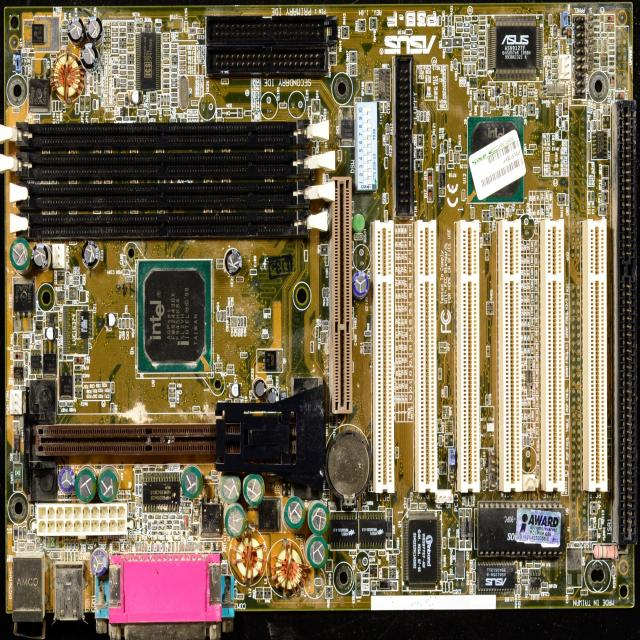Capacitor Jumper: (170, 18, 182, 32), (548, 14, 553, 26), (216, 258, 225, 264), (324, 255, 328, 268), (566, 588, 574, 594), (472, 63, 476, 75), (468, 64, 472, 75), (380, 102, 384, 113), (184, 21, 188, 32), (227, 364, 234, 370), (420, 503, 427, 509), (179, 50, 186, 56), (237, 595, 244, 601), (179, 60, 186, 66), (137, 104, 144, 110), (111, 21, 118, 27), (119, 22, 126, 28), (119, 27, 126, 33), (111, 32, 118, 38), (548, 38, 552, 48), (111, 43, 119, 48), (565, 195, 569, 205), (112, 36, 118, 42), (170, 392, 176, 398), (128, 503, 132, 512), (160, 96, 164, 105), (112, 27, 118, 33), (474, 24, 477, 36), (120, 32, 126, 38), (163, 38, 170, 43), (171, 44, 178, 49), (127, 47, 134, 52), (379, 550, 386, 555), (179, 70, 186, 75), (488, 82, 495, 87), (528, 84, 535, 89), (191, 100, 198, 105), (118, 100, 125, 105), (479, 20, 486, 25), (217, 264, 224, 269), (163, 33, 170, 38), (445, 386, 448, 397), (384, 102, 387, 113), (230, 306, 233, 317), (234, 316, 237, 327), (196, 29, 204, 33), (139, 474, 142, 484), (112, 49, 118, 54), (522, 568, 528, 573), (464, 57, 470, 62), (120, 65, 126, 70), (464, 64, 467, 74), (202, 66, 205, 76), (120, 70, 126, 75), (128, 75, 134, 80), (222, 79, 228, 84), (120, 83, 126, 88), (500, 97, 503, 107), (386, 134, 389, 144), (127, 276, 132, 282), (231, 317, 234, 327), (126, 319, 129, 329), (479, 31, 485, 36), (227, 370, 234, 374), (179, 46, 186, 50), (119, 50, 126, 54), (179, 56, 186, 60), (448, 574, 455, 578), (163, 60, 170, 64), (112, 70, 119, 74), (171, 78, 178, 82), (120, 79, 127, 83), (163, 89, 170, 93), (118, 94, 125, 98), (503, 84, 506, 93), (523, 86, 526, 95), (98, 87, 101, 96), (167, 96, 170, 105), (523, 97, 526, 106), (123, 256, 126, 265), (122, 319, 125, 328), (216, 364, 222, 368), (266, 380, 272, 384), (169, 389, 175, 393), (128, 38, 134, 42), (440, 435, 442, 447), (163, 49, 169, 53), (132, 504, 135, 512), (464, 51, 470, 55), (526, 564, 532, 568), (120, 56, 126, 60), (522, 580, 528, 584), (120, 60, 126, 64), (128, 66, 134, 70), (180, 66, 186, 70), (552, 69, 558, 73), (128, 86, 134, 90), (150, 110, 156, 114), (164, 110, 170, 114), (217, 118, 223, 122), (465, 17, 471, 21), (456, 17, 462, 21), (220, 312, 223, 320), (241, 353, 247, 357), (112, 382, 114, 393), (164, 95, 166, 106), (378, 507, 385, 510), (479, 16, 486, 19), (236, 278, 243, 281), (118, 78, 120, 88), (529, 92, 534, 96), (488, 103, 490, 113), (520, 106, 522, 116), (117, 495, 123, 498), (124, 495, 130, 498), (171, 49, 177, 52), (444, 538, 446, 547), (163, 74, 169, 77), (90, 77, 92, 86), (171, 84, 177, 87), (158, 98, 160, 107), (34, 120, 40, 123), (224, 311, 226, 320)
Connector: (96, 554, 235, 640), (616, 103, 638, 542), (18, 152, 310, 182), (18, 123, 310, 150), (18, 186, 306, 210), (18, 214, 310, 237), (35, 426, 241, 454), (460, 224, 482, 485), (586, 219, 606, 493), (545, 222, 565, 489), (503, 219, 522, 490), (375, 222, 394, 492), (332, 175, 353, 412), (417, 219, 435, 489), (204, 17, 336, 46), (206, 47, 328, 75), (12, 554, 46, 639), (37, 504, 126, 536), (55, 564, 85, 634)
IC: (137, 260, 213, 373), (468, 115, 526, 206), (477, 502, 566, 560), (487, 16, 543, 81), (404, 511, 442, 589), (142, 472, 181, 514), (135, 32, 161, 90), (478, 560, 516, 593), (329, 512, 359, 550), (358, 512, 386, 550), (374, 68, 391, 101), (76, 309, 93, 340), (592, 131, 609, 161), (529, 570, 541, 594), (31, 349, 41, 373), (119, 107, 129, 116)
Resistor Jumper: (585, 546, 628, 559), (14, 360, 23, 384), (138, 110, 147, 116), (59, 347, 63, 360), (141, 117, 149, 123), (66, 273, 70, 285), (597, 120, 601, 131), (155, 22, 162, 28), (598, 519, 602, 529), (472, 560, 476, 570), (612, 566, 616, 576), (25, 66, 29, 76), (93, 82, 97, 92), (330, 505, 336, 511), (542, 582, 548, 588), (513, 87, 517, 96), (386, 144, 389, 156), (438, 16, 442, 25), (73, 280, 79, 286), (37, 310, 43, 316), (406, 30, 412, 36), (240, 318, 244, 327), (364, 330, 370, 336), (112, 65, 119, 70), (463, 23, 470, 28), (136, 27, 143, 32), (127, 33, 134, 38), (25, 368, 28, 379), (593, 120, 596, 131), (534, 564, 542, 568), (471, 37, 477, 42), (163, 43, 169, 48), (464, 45, 470, 50), (478, 48, 484, 53), (479, 52, 485, 57), (454, 59, 457, 69), (597, 110, 600, 120), (386, 124, 389, 134), (449, 16, 452, 26), (470, 25, 473, 35), (449, 26, 452, 36), (130, 319, 133, 329), (12, 386, 19, 390), (169, 398, 176, 402), (21, 53, 28, 57), (163, 54, 170, 58), (127, 82, 134, 86), (171, 98, 178, 102), (73, 276, 80, 280), (323, 288, 326, 297), (217, 312, 220, 321), (21, 386, 26, 391), (128, 70, 133, 75), (457, 22, 462, 27), (170, 384, 176, 388), (62, 41, 68, 45), (471, 44, 477, 48), (446, 48, 452, 52), (471, 51, 477, 55), (171, 93, 177, 97), (469, 102, 472, 110), (123, 117, 129, 121), (509, 207, 512, 215), (54, 307, 60, 311), (238, 318, 241, 326), (322, 321, 328, 325), (62, 32, 68, 36), (263, 334, 269, 338), (66, 289, 68, 300), (26, 352, 28, 363), (362, 507, 369, 510), (473, 573, 476, 580), (35, 345, 42, 348), (486, 395, 488, 405), (172, 68, 177, 72), (94, 72, 96, 82), (588, 121, 590, 131), (588, 131, 590, 141), (464, 28, 469, 32), (463, 34, 468, 38), (518, 585, 520, 594), (515, 585, 517, 594), (473, 585, 475, 594), (171, 74, 177, 77), (492, 88, 494, 97), (485, 102, 487, 111), (33, 115, 39, 118), (326, 288, 328, 297), (322, 327, 328, 330), (35, 336, 41, 339), (32, 334, 34, 343), (445, 573, 447, 581), (227, 308, 229, 316), (120, 320, 122, 328), (471, 58, 476, 61), (171, 119, 176, 122), (165, 80, 169, 83)
Transistor: (13, 277, 34, 332), (29, 60, 50, 111), (339, 107, 355, 146), (24, 20, 48, 46), (59, 361, 74, 399), (43, 339, 57, 379), (258, 349, 282, 372), (46, 312, 58, 327), (589, 529, 597, 542), (70, 286, 77, 299), (36, 321, 43, 334), (58, 272, 65, 284)
